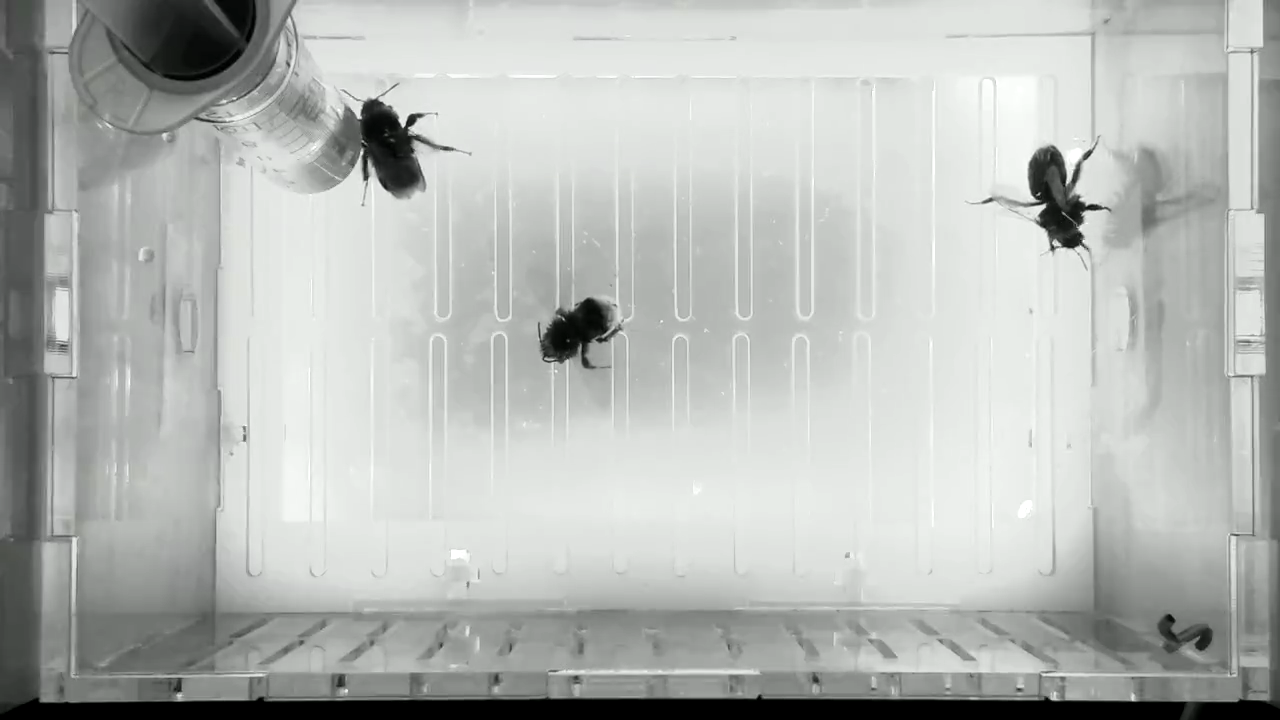bee_alive: (963, 131, 1121, 272), (336, 80, 480, 210)
bee_dead: (531, 291, 631, 373)
feeder: (205, 33, 363, 198)
